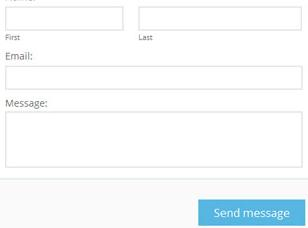button: (197, 198, 307, 226)
field: (3, 108, 304, 171), (4, 64, 304, 92), (138, 4, 303, 32), (7, 4, 126, 31)
